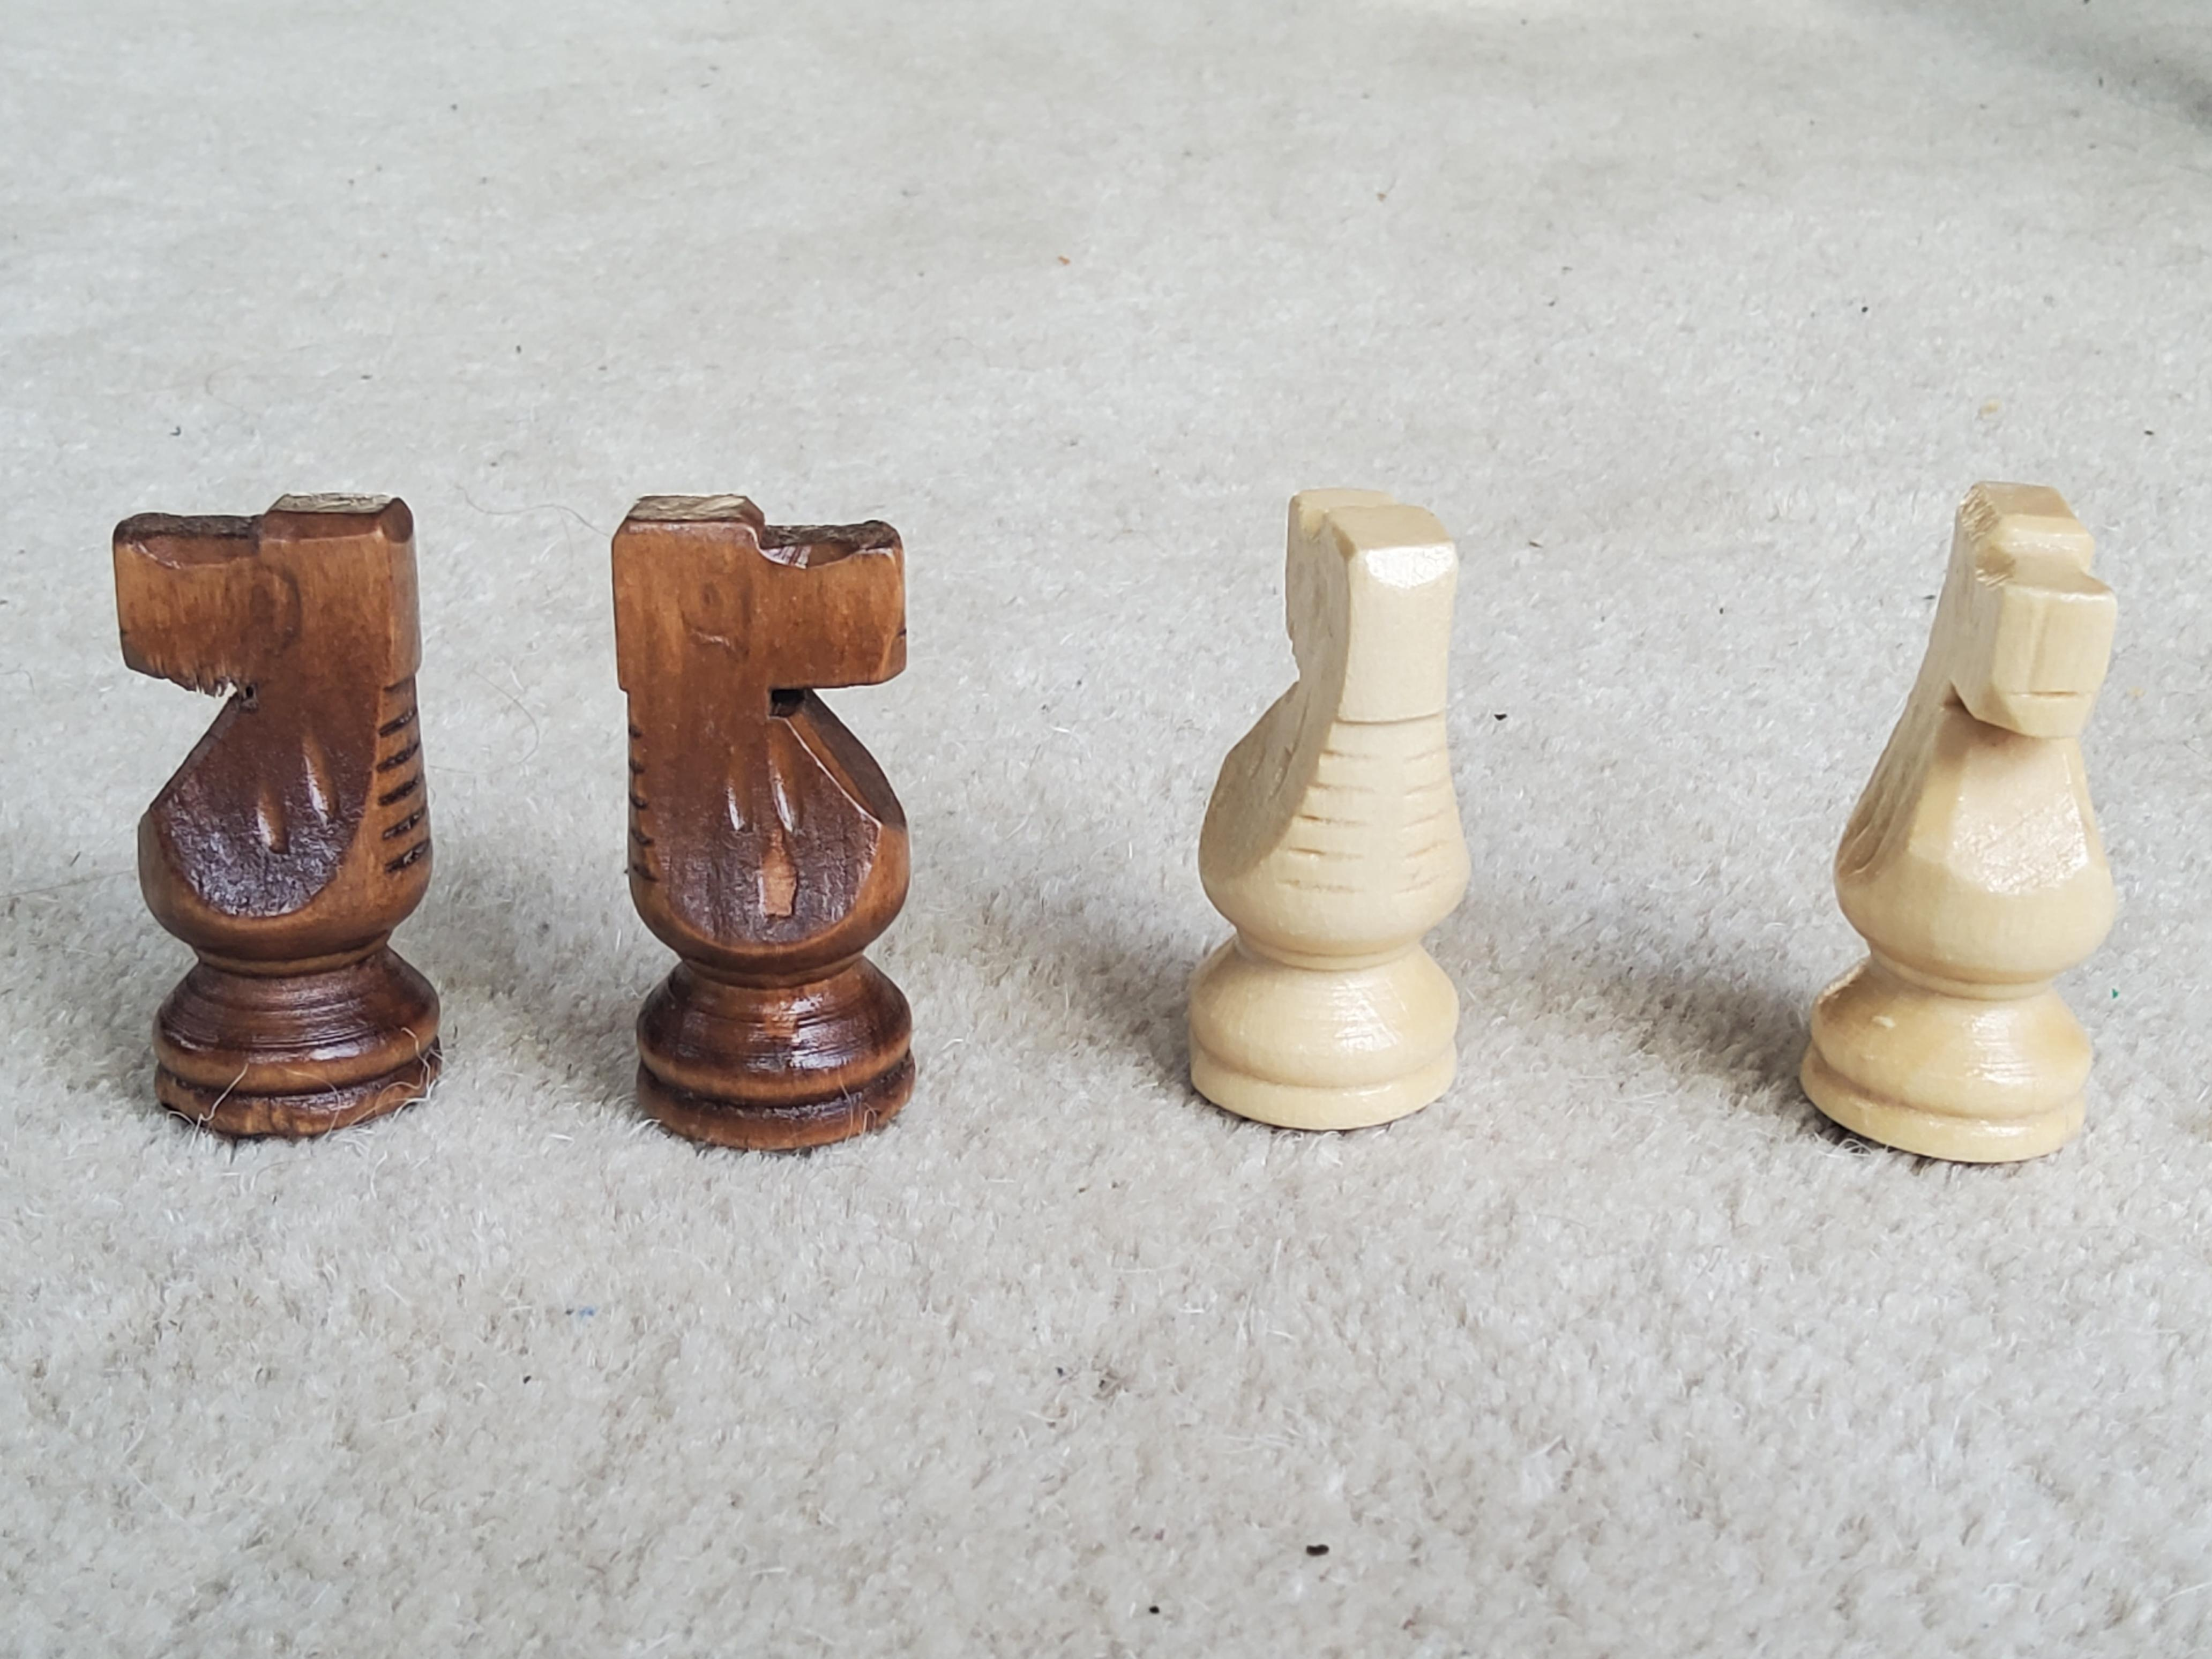schaak: (110, 488, 448, 1131), (606, 474, 920, 1166), (1832, 472, 2116, 1166), (1176, 484, 1474, 1126)
